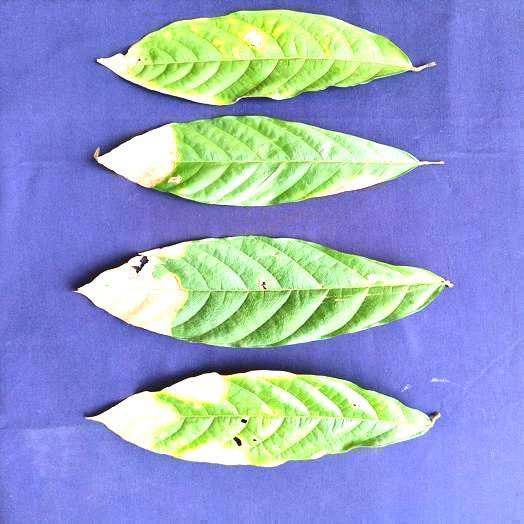Potassium: (78, 236, 451, 347), (91, 371, 437, 466), (99, 10, 433, 104), (98, 116, 442, 205)
